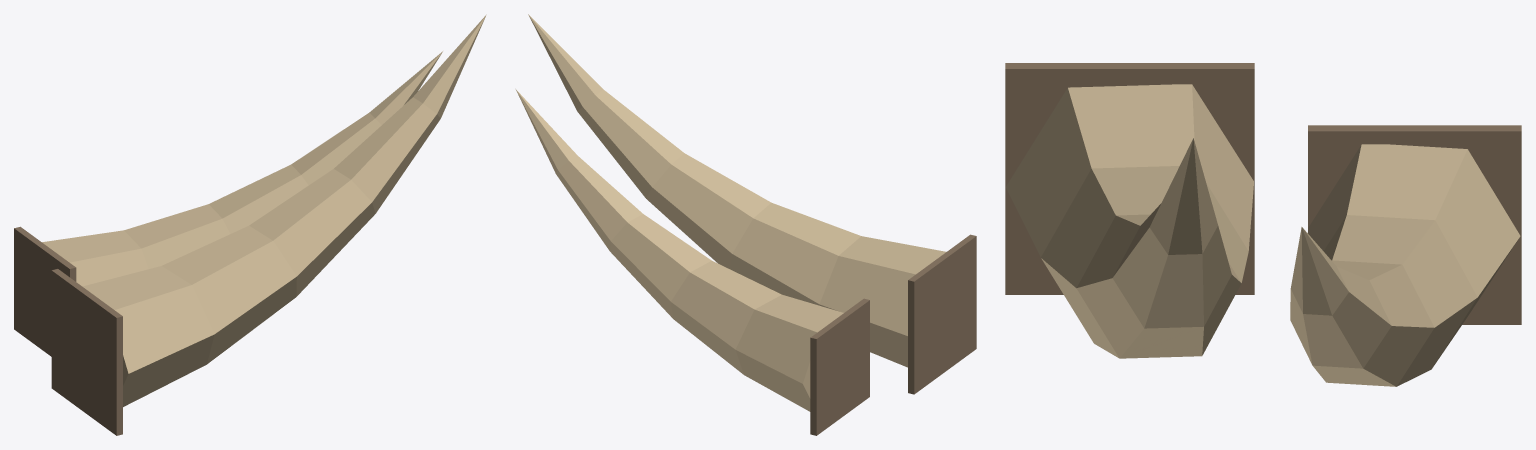
File: prop-horn-blank-pair.fbx
The picture shows the model from 3 angles, left to right: view 1: azimuth 30°, elevation 25°; view 2: azimuth 150°, elevation 25°; view 3: azimuth 270°, elevation 25°; orthographic projection. The views are drawn at different scales.
Parts seen in each view (by area): view 1: prop-horn-blank-pair; view 2: prop-horn-blank-pair; view 3: prop-horn-blank-pair.
Boxes of the visible parts, bbox=[...] form: prop-horn-blank-pair: bbox=[14, 14, 486, 435]; prop-horn-blank-pair: bbox=[515, 14, 976, 435]; prop-horn-blank-pair: bbox=[1005, 63, 1521, 386].
Size of the model in its own units: 26.04 by 16.83 by 14.5.
